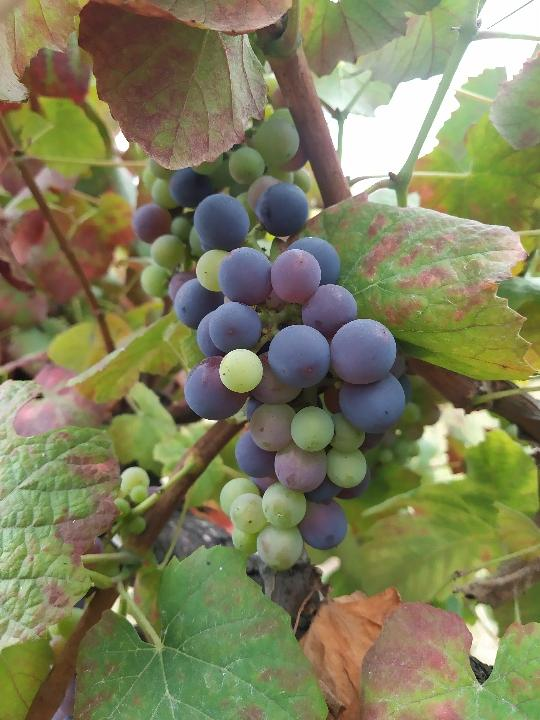grape: (170, 180, 407, 574)
